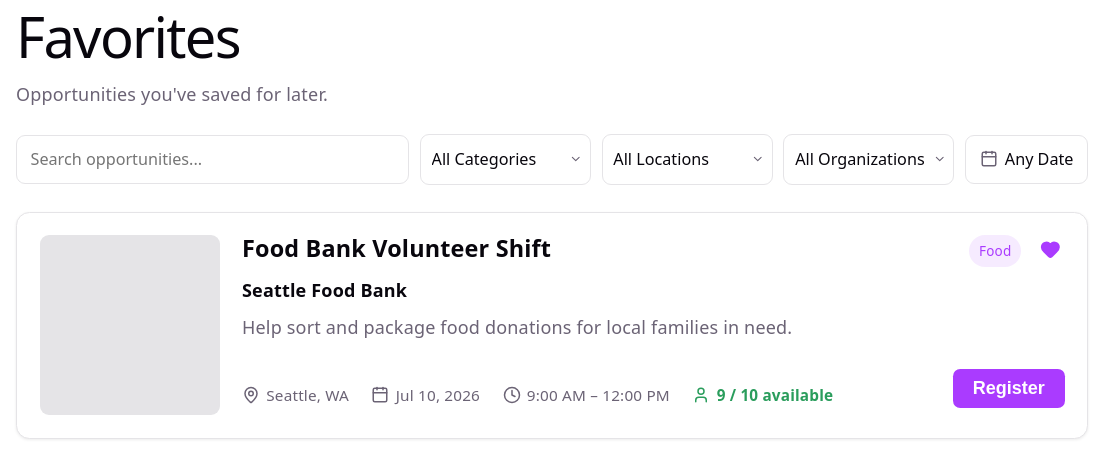
Test: FavoritesPage › removes an opportunity from the list when its heart is clicked
The width and height of the screenshot is (1105, 457).
Expected: the heading "Food Bank Volunteer Shift" is shown, [242,235,551,261]
Click the button named "Remove from favorites" at (1050, 250), box [1031,231,1069,268]
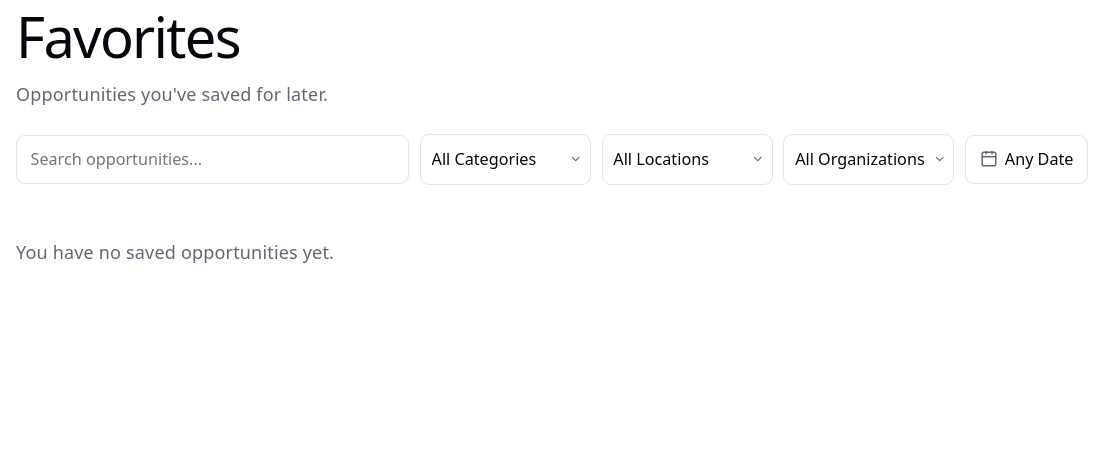
Expected: the text "You have no saved opportunities yet." is shown, [16,240,334,264]
